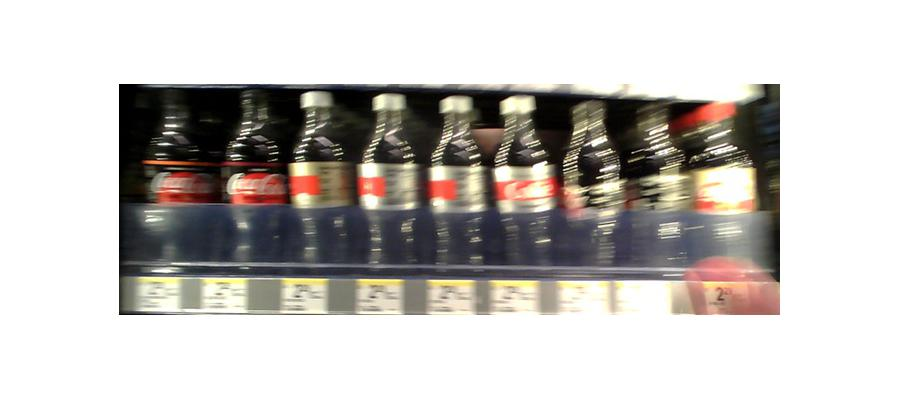bottle: (688, 110, 764, 285), (361, 86, 430, 268), (291, 85, 356, 267), (140, 129, 219, 277), (222, 98, 285, 273), (493, 90, 556, 264), (628, 101, 687, 281), (431, 90, 490, 269), (563, 98, 620, 273)
